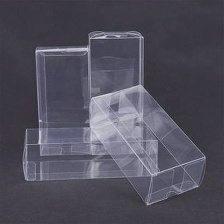plastic_box: (83, 79, 211, 210), (16, 119, 164, 186), (83, 24, 149, 159), (30, 40, 96, 160)
